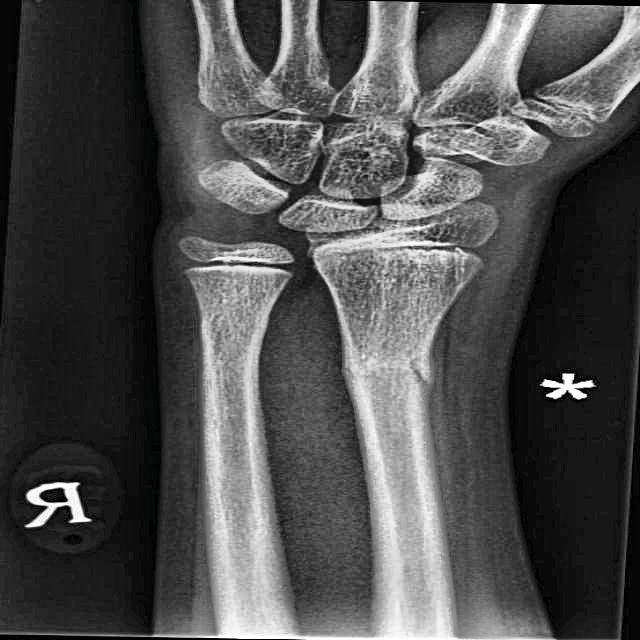Greenstick: (372, 336, 474, 422)
